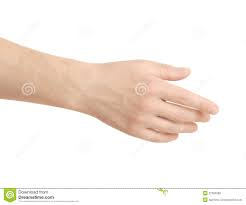hand: (73, 44, 224, 155)
